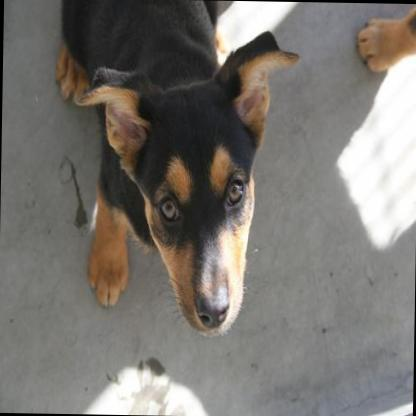kelpie: (47, 0, 300, 337)
